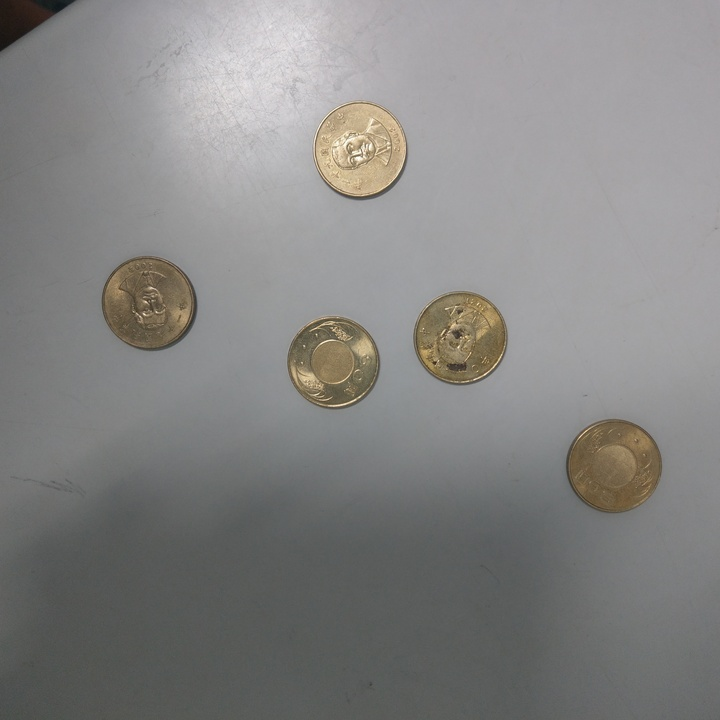50 dollar: (564, 417, 664, 517), (100, 256, 200, 354), (412, 289, 509, 389), (314, 103, 408, 201), (286, 317, 383, 409)
